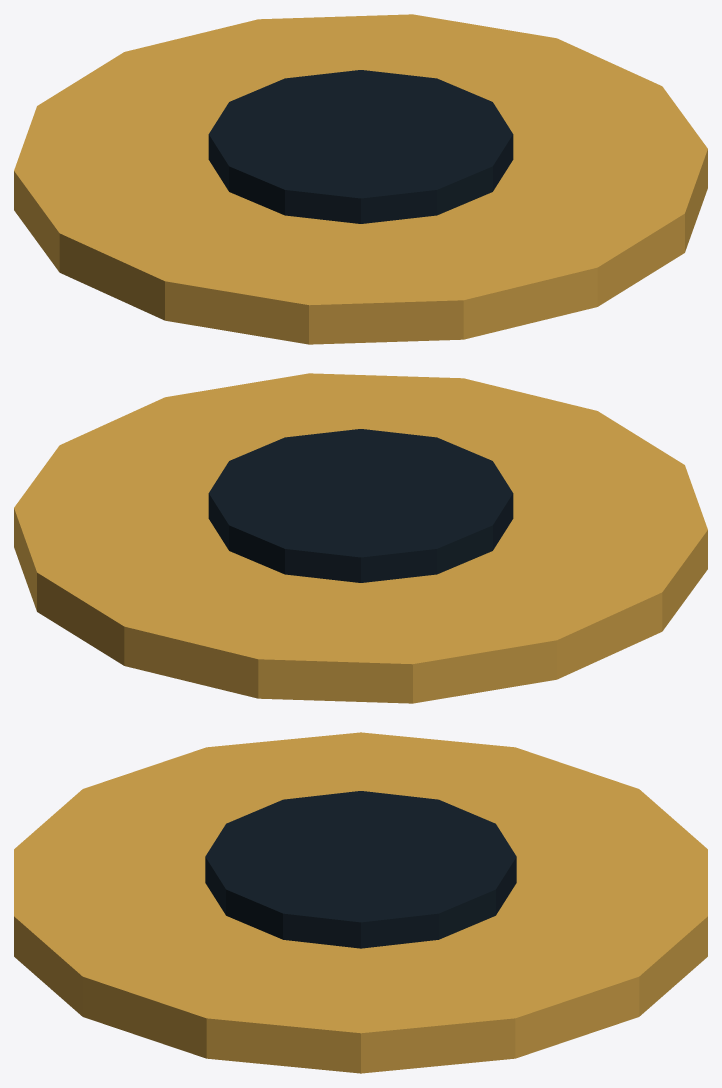
Rendered from 152_L109_ThermalViaArray_08.fbx.
The picture shows the model from 3 angles, top to bottom: view 1: azimuth 30°, elevation 25°; view 2: azimuth 150°, elevation 25°; view 3: azimuth 270°, elevation 25°; orthographic projection. The views are drawn at different scales.
Visible parts, largest first — view 1: L109_ThermalViaArray_08_GOLD, L109_ThermalViaArray_08_PCB; view 2: L109_ThermalViaArray_08_GOLD, L109_ThermalViaArray_08_PCB; view 3: L109_ThermalViaArray_08_GOLD, L109_ThermalViaArray_08_PCB.
Boxes of the visible parts, left/top/right/bottom form: L109_ThermalViaArray_08_GOLD: left=14, top=14, right=707, bottom=344; L109_ThermalViaArray_08_PCB: left=208, top=70, right=513, bottom=223; L109_ThermalViaArray_08_GOLD: left=14, top=373, right=707, bottom=703; L109_ThermalViaArray_08_PCB: left=208, top=429, right=513, bottom=582; L109_ThermalViaArray_08_GOLD: left=14, top=732, right=707, bottom=1073; L109_ThermalViaArray_08_PCB: left=205, top=791, right=516, bottom=948.
Size of the model in its own units: 1.6 by 1.56 by 0.165.
